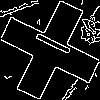I: (25, 25, 72, 58)
